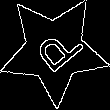P_SW: (24, 20, 84, 80)
